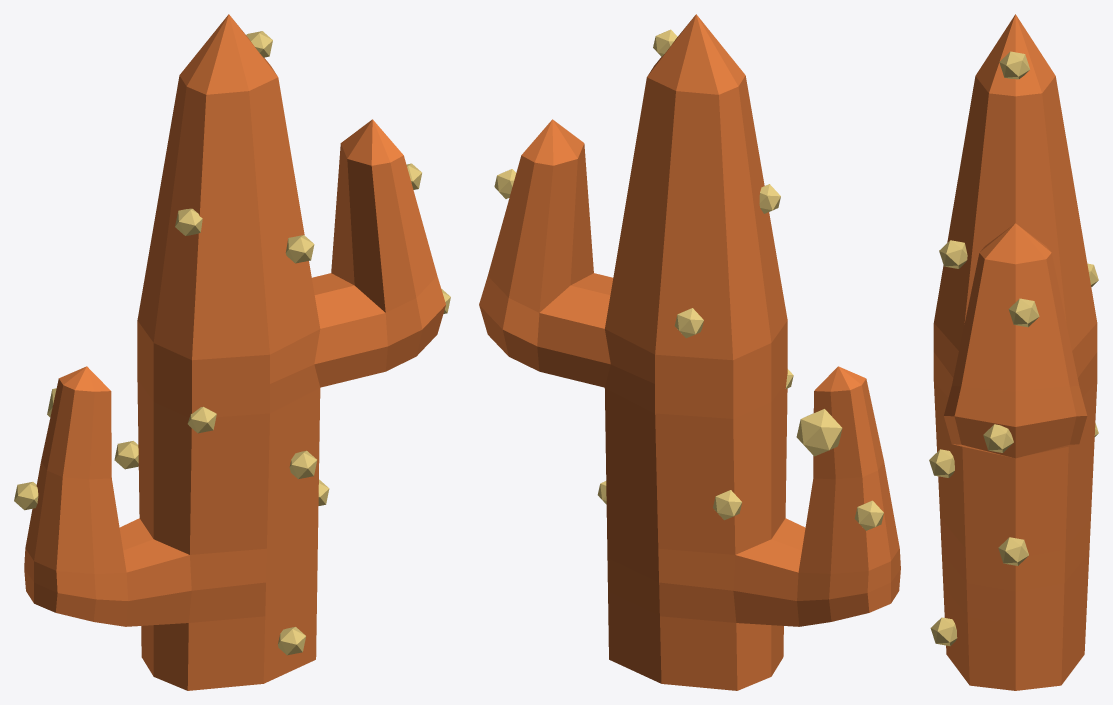
File: 01_01Cactus_Orange.fbx
The picture shows the model from 3 angles, left to right: view 1: azimuth 30°, elevation 25°; view 2: azimuth 150°, elevation 25°; view 3: azimuth 270°, elevation 25°; orthographic projection.
Visible parts, largest first — view 1: Cube.014; view 2: Cube.014; view 3: Cube.014.
Boxes of the visible parts, x1,y1,x2,y2 form: Cube.014: (14,14,450,690); Cube.014: (479,14,900,690); Cube.014: (929,14,1098,690).
Size of the model in its own units: 93.75 by 141 by 33.78.
